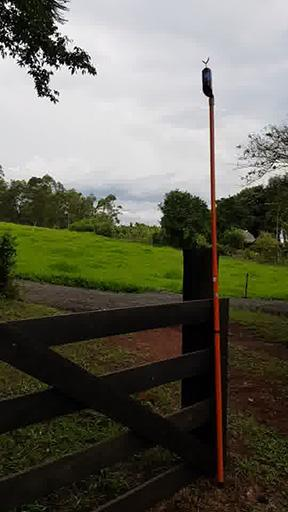Detector_Tensao_Contato: (201, 56, 214, 98)
Vara_Manobra: (208, 96, 224, 483)
